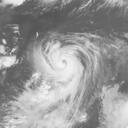cyclone: (33, 34, 99, 84)
